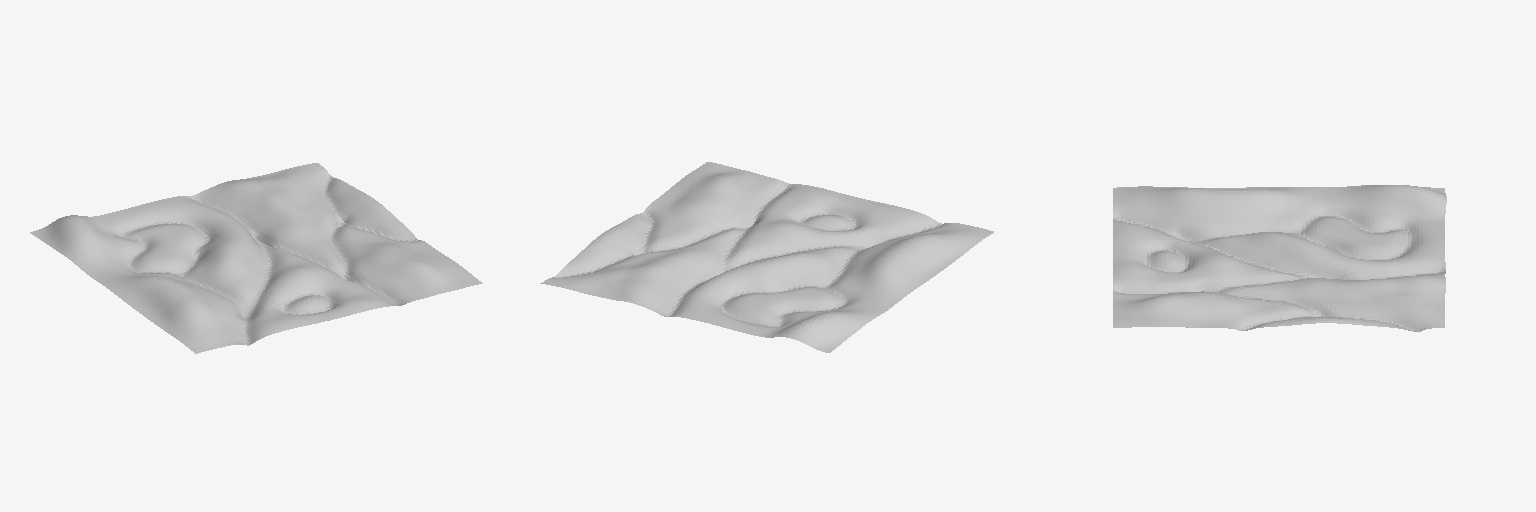
File: Terrain3.obj
3 views of the same model, side by side, from view 1: azimuth 30°, elevation 25°; view 2: azimuth 150°, elevation 25°; view 3: azimuth 270°, elevation 25° (orthographic).
Visible parts, largest first — view 1: Plane; view 2: Plane; view 3: Plane.
Part boxes in pixels (x1,y1,x2,y2): Plane: (30,163,482,353); Plane: (541,162,993,352); Plane: (1113,185,1446,331).
Bounding box in the file's own units: 1003 × 82.42 × 1006.